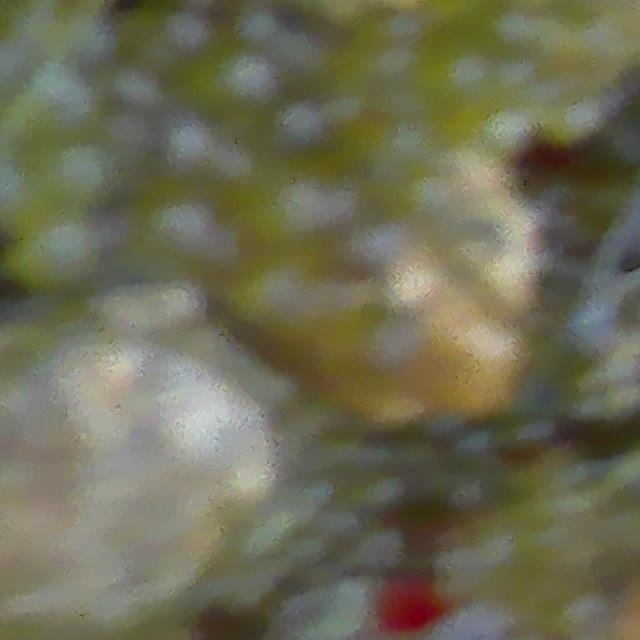SeaGrape: (13, 208, 103, 293), (37, 136, 115, 211)
